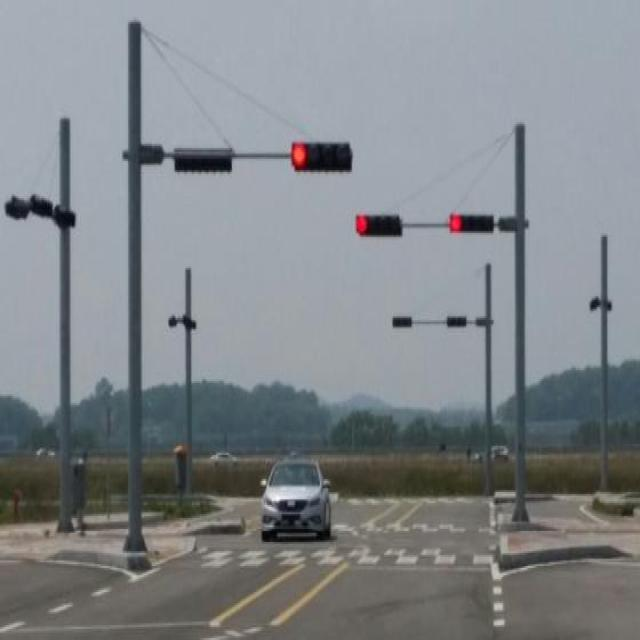red_light: (289, 140, 364, 186), (346, 207, 406, 243), (448, 215, 495, 238)
